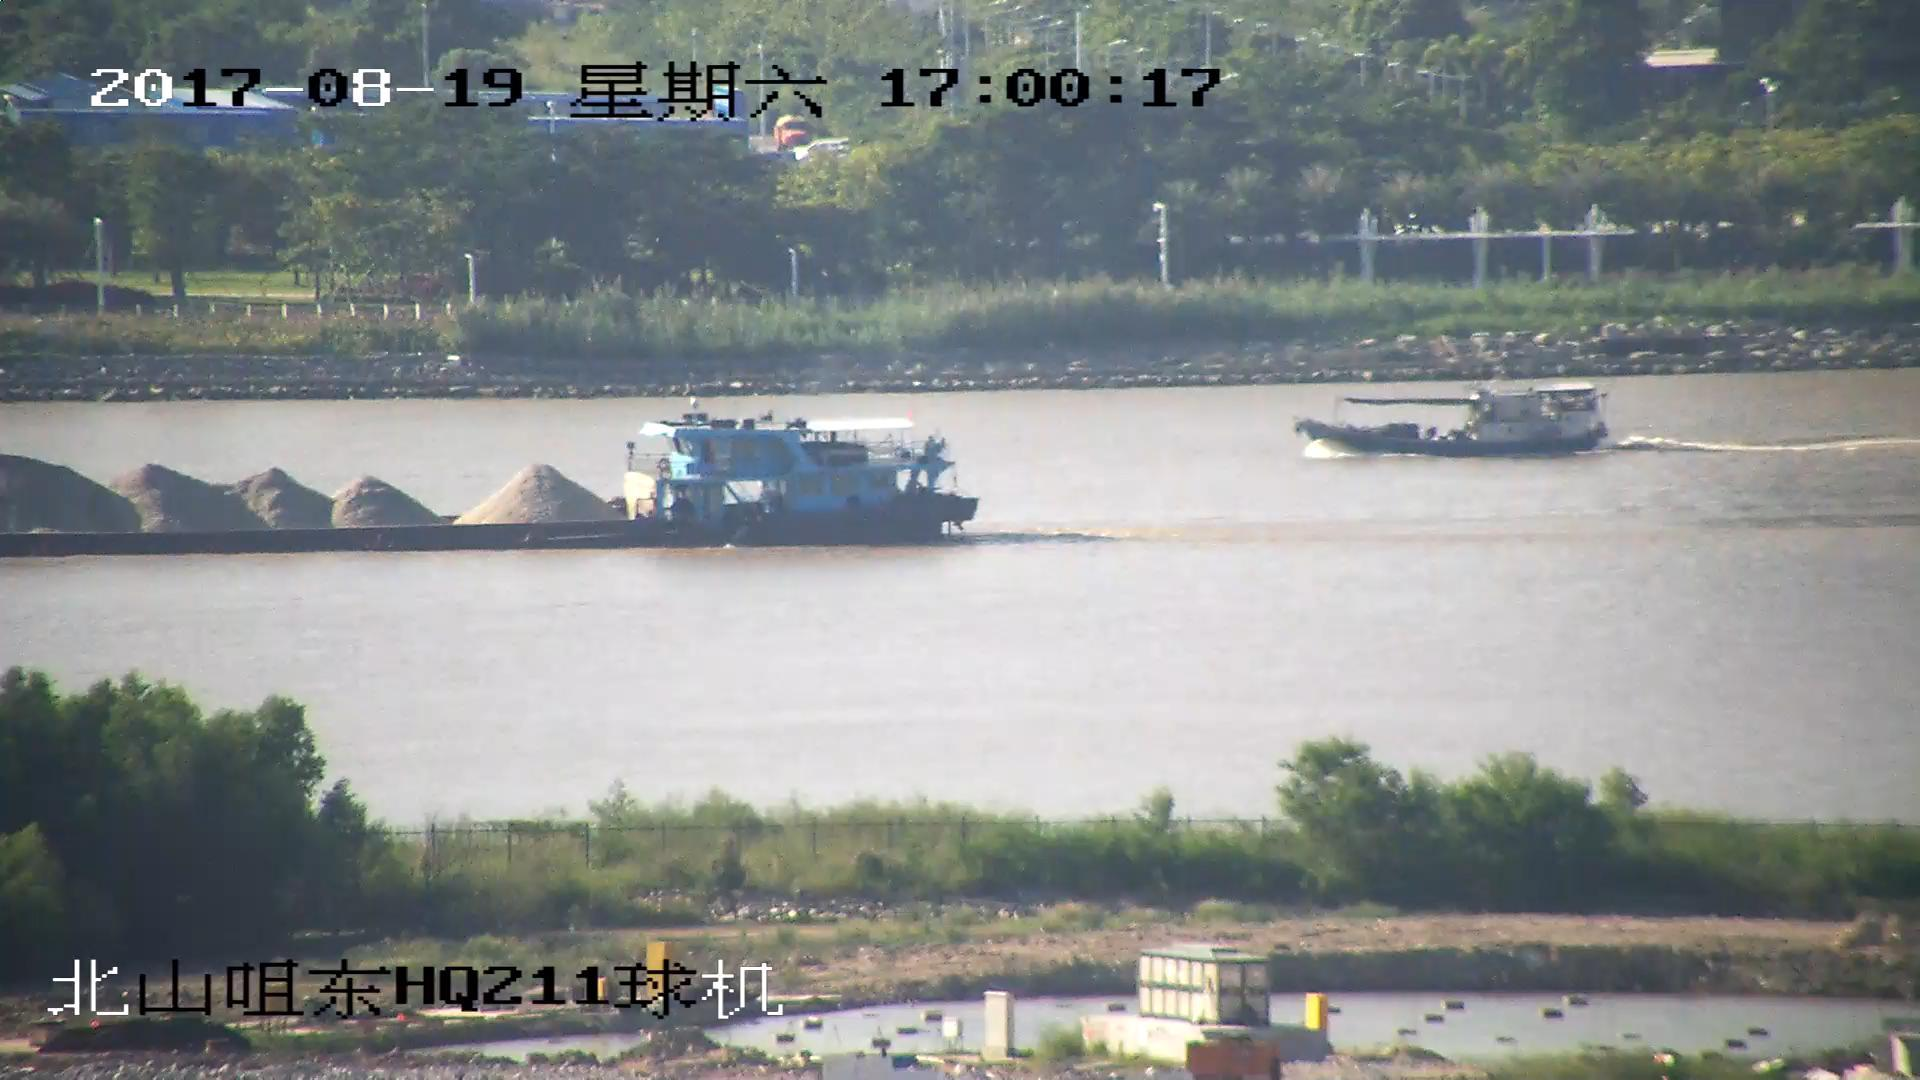Ship: (3, 394, 981, 556), (1294, 378, 1617, 465)
